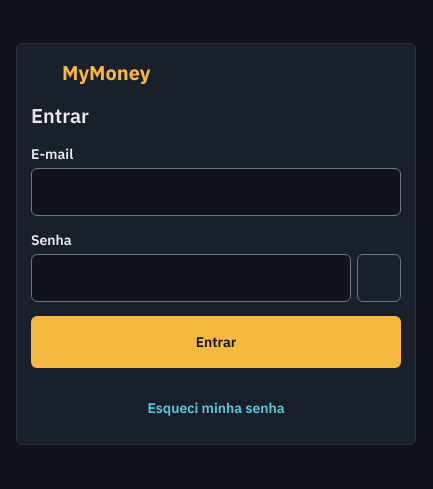
Test: T01 Entrar › não mostra "Criar conta" nem depois de um erro
Type "a@b.com" into the field labelled "E-mail" at [216, 192], box left=31, top=168, right=401, bottom=216
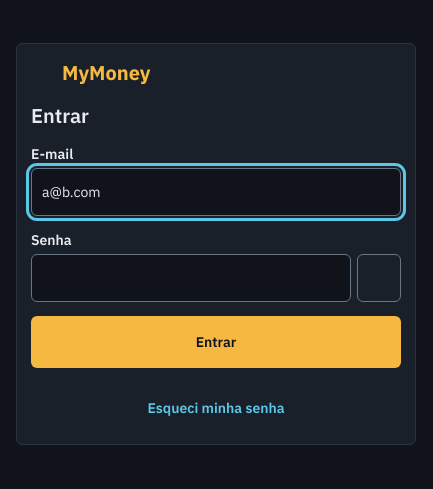
Type "x" into the password field labelled "Senha" at [191, 278], box left=31, top=254, right=351, bottom=302
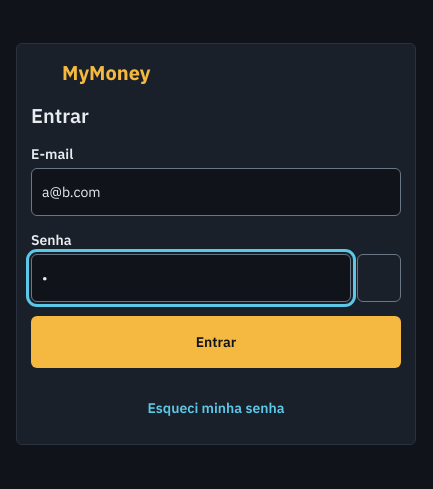
Click the button "Entrar" at [216, 342], box left=31, top=316, right=401, bottom=368
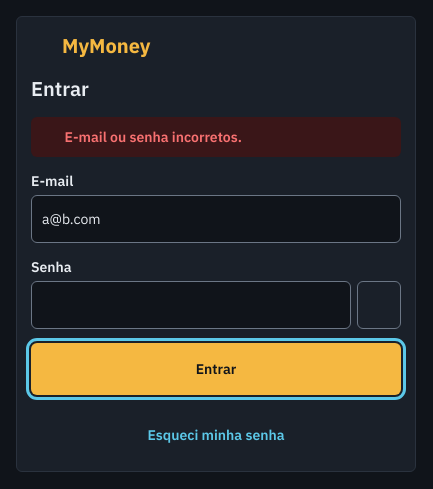
Expected: the message "E-mail ou senha incorretos." is shown, left=31, top=116, right=401, bottom=157
